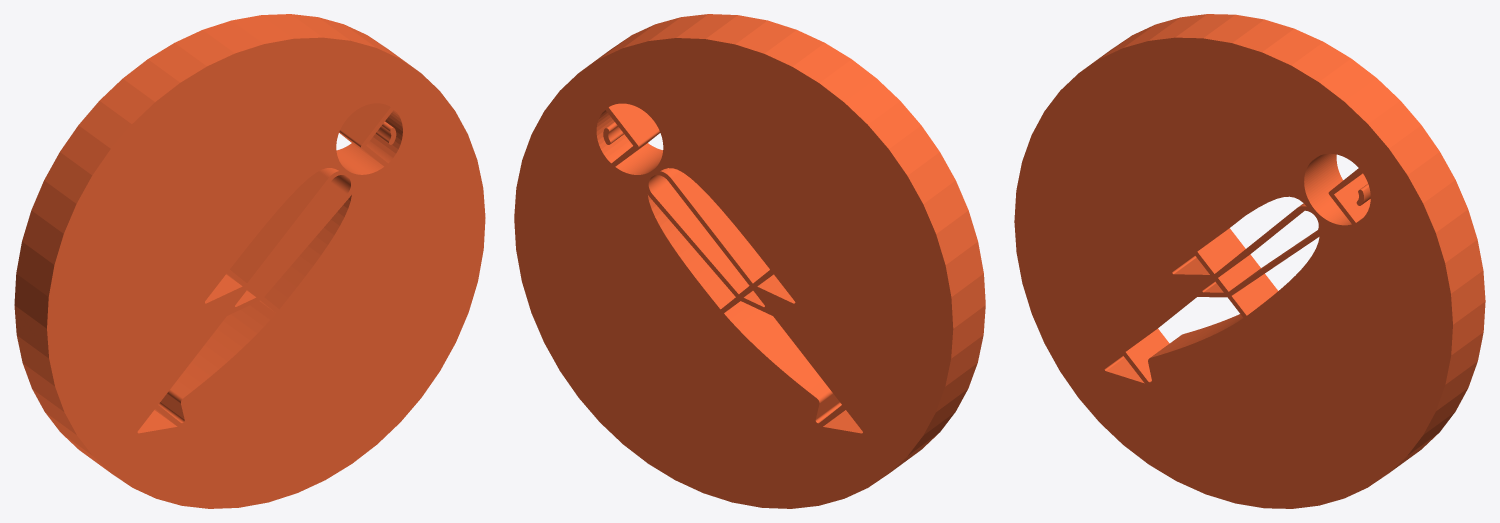
The model's file is Postman_model.glb.
The picture shows the model from 3 angles, left to right: view 1: azimuth 30°, elevation 25°; view 2: azimuth 150°, elevation 25°; view 3: azimuth 330°, elevation 25°; orthographic projection.
Visible parts, largest first — view 1: Curve; view 2: Curve; view 3: Curve.
Part boxes in pixels (left/top/right/bottom): Curve: left=14, top=14, right=485, bottom=508; Curve: left=514, top=14, right=985, bottom=508; Curve: left=1014, top=14, right=1485, bottom=508.
Size of the model in its own units: 0.00677 by 0.00677 by 0.000886.
